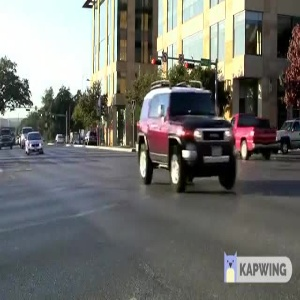car: (24, 130, 44, 159)
suv: (132, 77, 241, 190)
truck: (226, 108, 282, 158)
